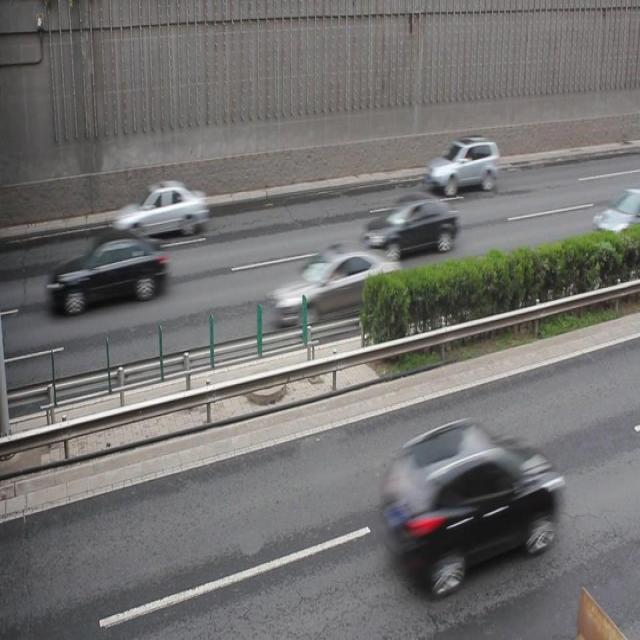car: (384, 418, 562, 592), (270, 241, 402, 328), (50, 230, 166, 309), (364, 192, 456, 254), (113, 183, 208, 240), (430, 135, 498, 196)
